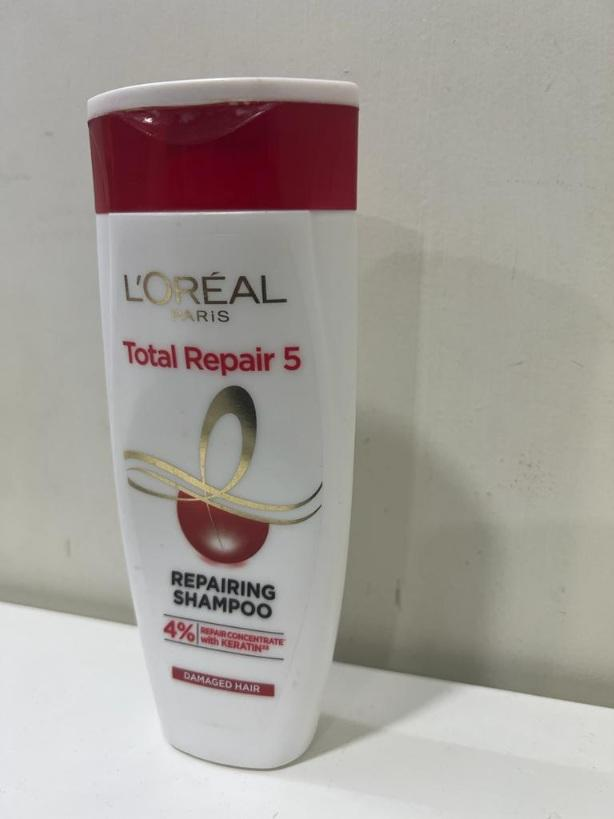Loreal: (84, 78, 367, 772)
